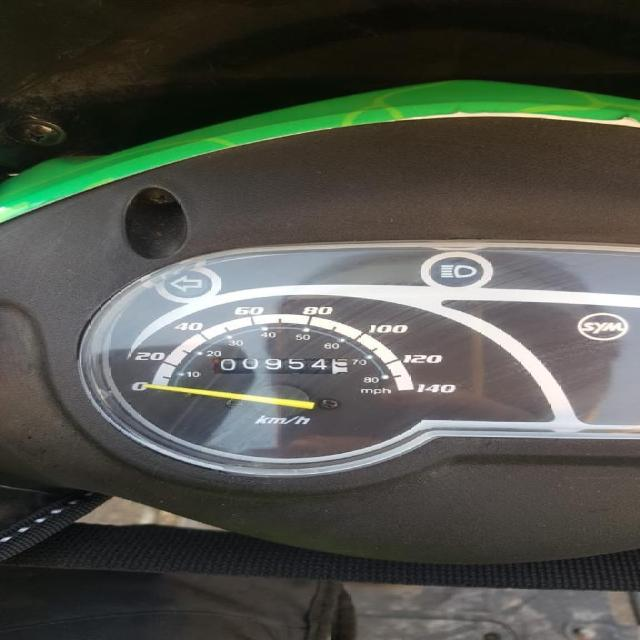odometer: (208, 355, 351, 376)
